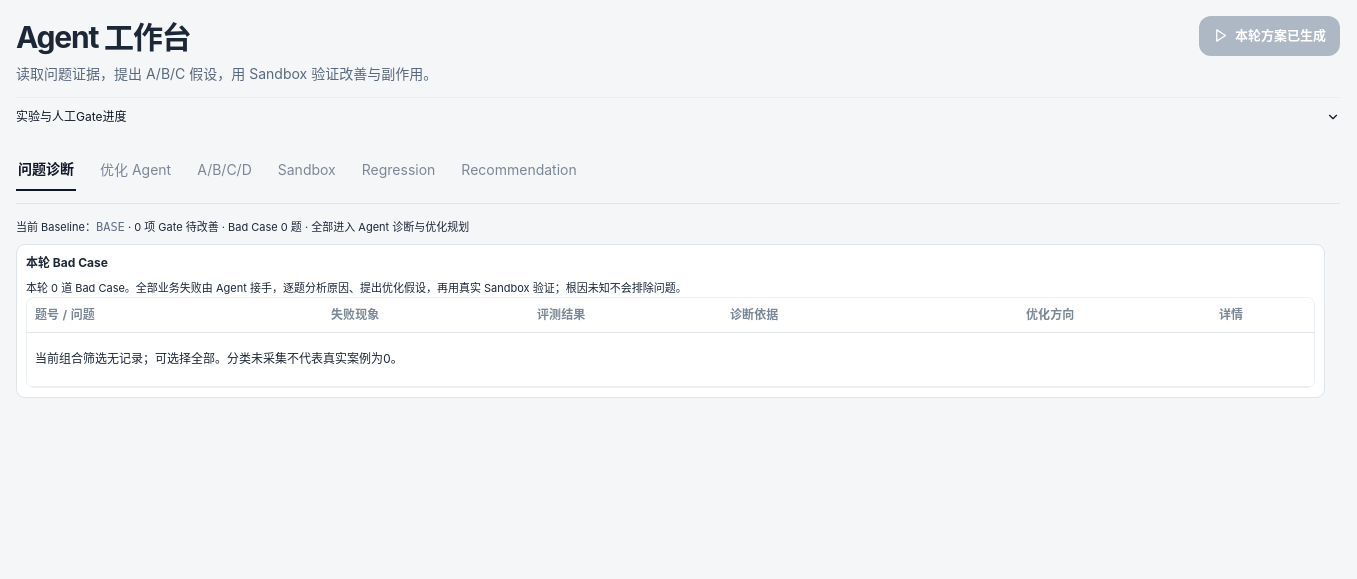
Test: keeps a historical no-qualified record from becoming the current final decision while incomplete
Click the button "Recommendation" at (519, 170), box [459,148,579,191]
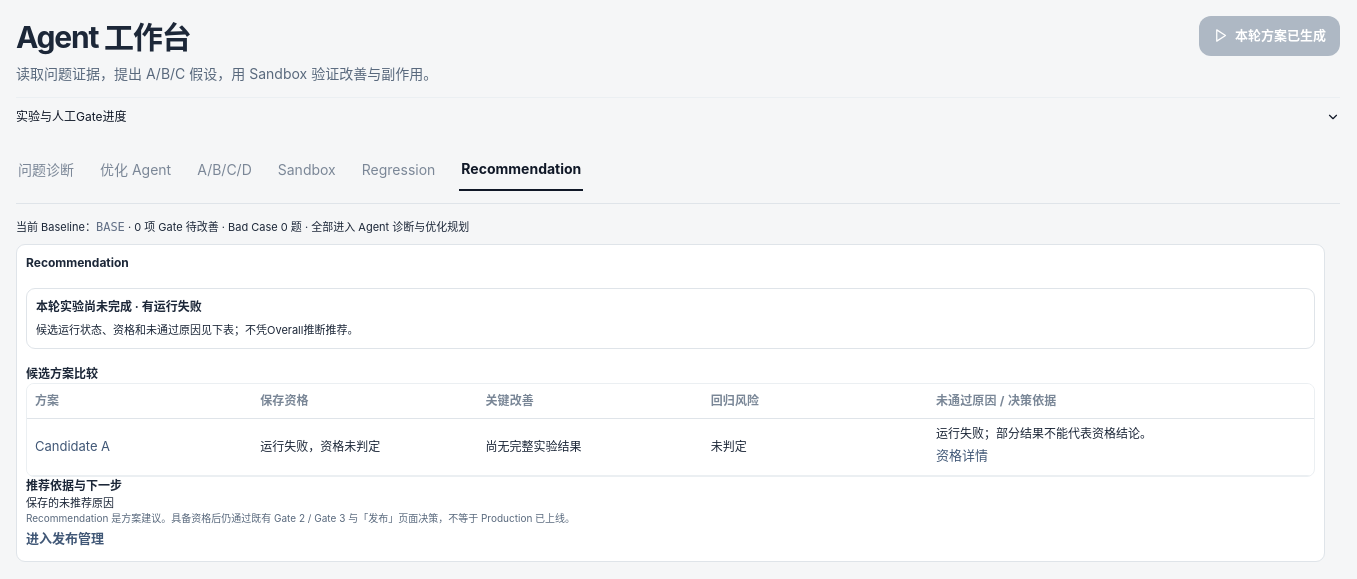
Now the element with class "conclusion-card" shows "本轮实验尚未完成", box [36,299,202,314]
Now the text "保存的未推荐原因" is shown, box [26,496,114,510]
